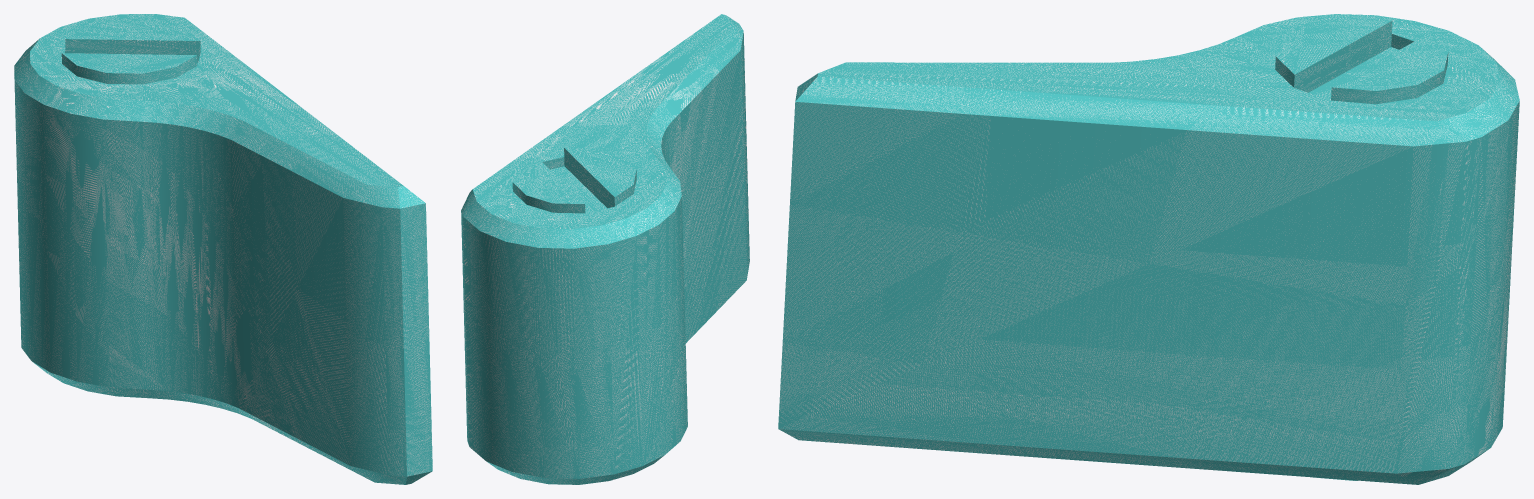
File: original-13.obj
3 renders of one model, left to right at view 1: azimuth 30°, elevation 25°; view 2: azimuth 150°, elevation 25°; view 3: azimuth 270°, elevation 25°, orthographic. The views are drawn at different scales.
Parts seen in each view (by area): view 1: Group_7_2/Group_7_1_2/mesh36/mesh36-geometry#mesh36-geometry; view 2: Group_7_2/Group_7_1_2/mesh36/mesh36-geometry#mesh36-geometry; view 3: Group_7_2/Group_7_1_2/mesh36/mesh36-geometry#mesh36-geometry.
Boxes of the visible parts, x1,y1,x2,y2 form: Group_7_2/Group_7_1_2/mesh36/mesh36-geometry#mesh36-geometry: (14, 14, 432, 484); Group_7_2/Group_7_1_2/mesh36/mesh36-geometry#mesh36-geometry: (461, 14, 749, 484); Group_7_2/Group_7_1_2/mesh36/mesh36-geometry#mesh36-geometry: (778, 14, 1519, 484).
Size of the model in its own units: 0.00991 by 0.0156 by 0.0259.
